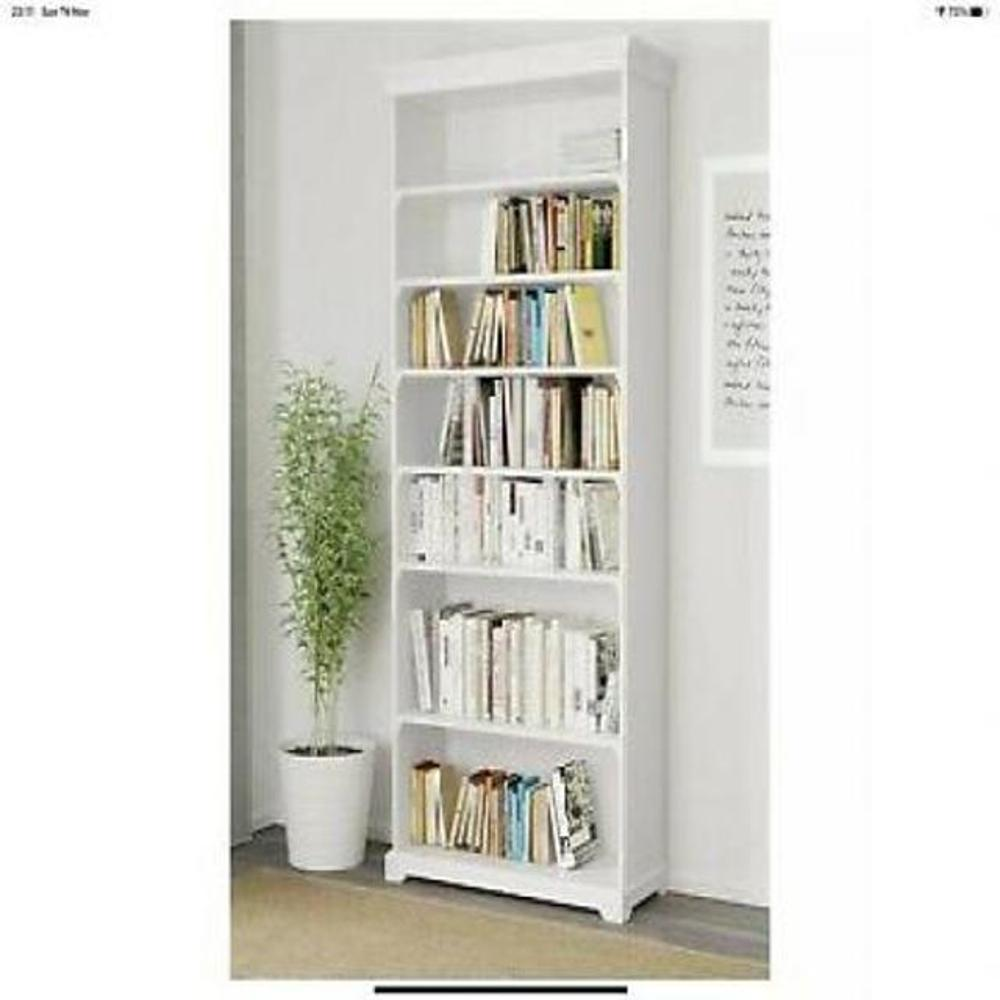lamp: (381, 31, 681, 925)
